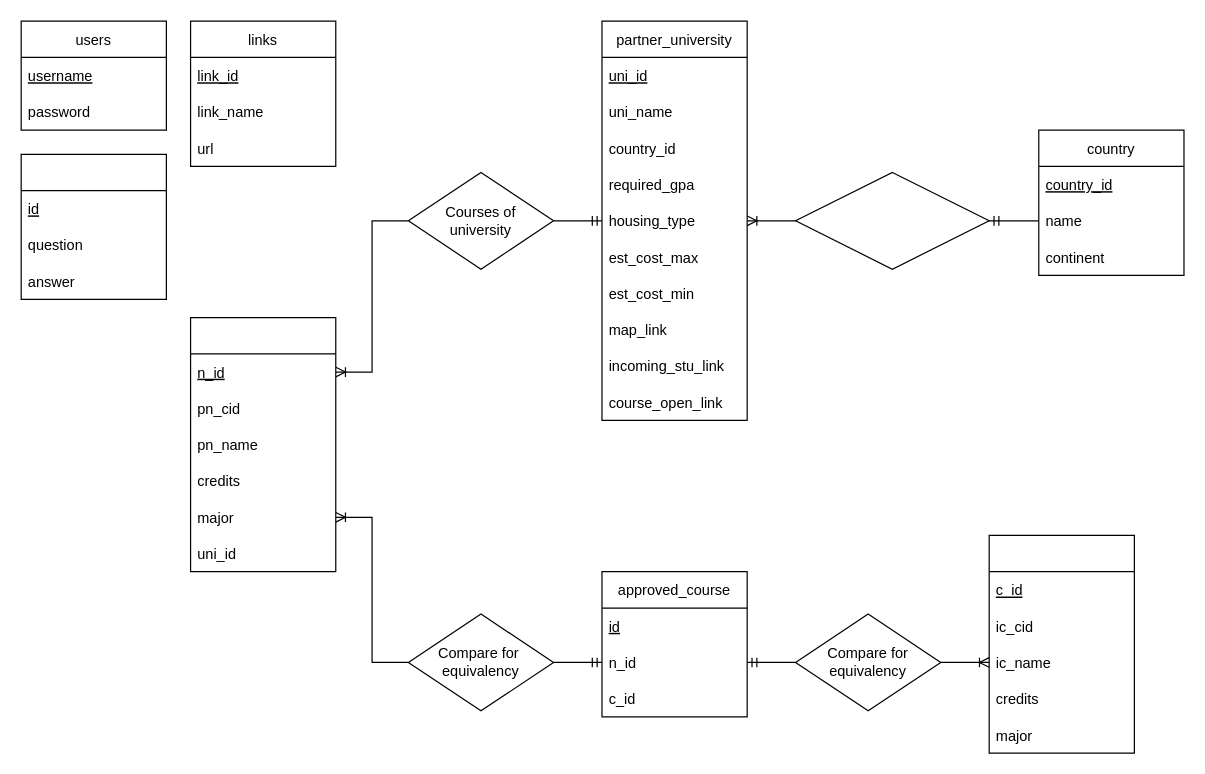
This 1205x774 diagram has some shape labels left out. Here are the shapes that lost their labels. From the top down, the box of each, then its label:
(20, 153, 166, 299): faq
(794, 171, 989, 269): Record country
(189, 316, 336, 572): partner_course
(988, 534, 1134, 753): ic_course
